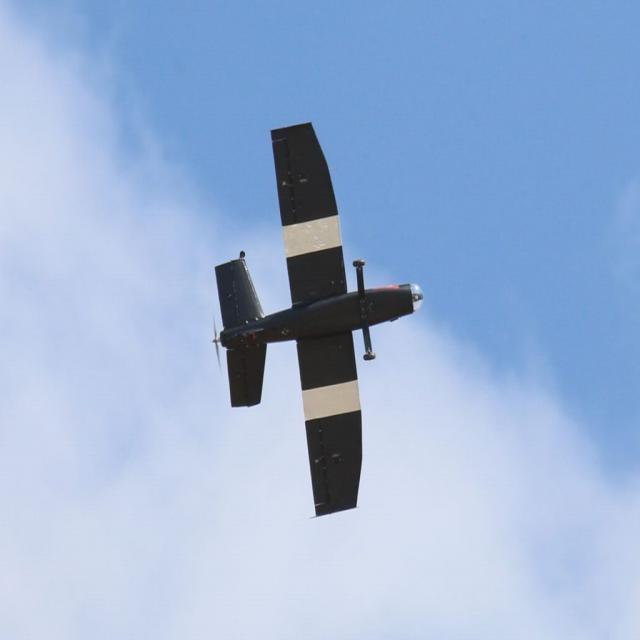iha: (217, 117, 428, 523)
